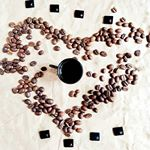cups: (47, 57, 84, 86)
